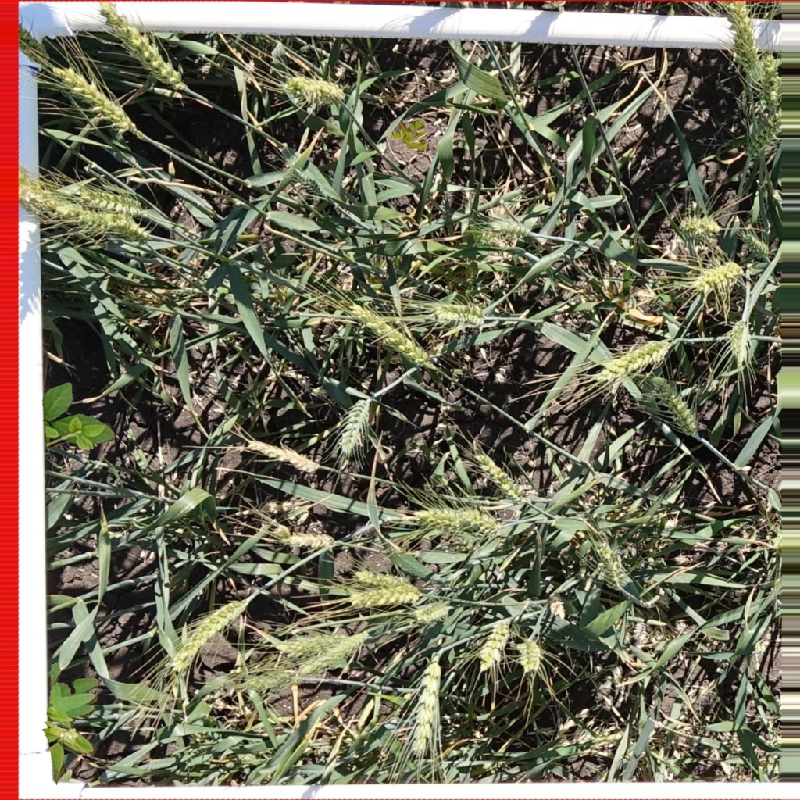spikelet: (108, 15, 189, 92), (165, 597, 248, 672), (49, 61, 136, 132), (349, 300, 433, 368), (406, 650, 447, 758), (594, 336, 671, 384), (291, 629, 368, 675), (410, 502, 504, 538), (471, 449, 533, 503), (243, 437, 320, 479), (650, 375, 701, 436), (61, 181, 149, 215), (724, 2, 762, 68), (335, 394, 374, 456), (475, 613, 514, 673), (283, 72, 348, 106), (745, 52, 783, 109), (743, 109, 784, 160), (592, 538, 632, 589), (690, 258, 745, 294), (429, 298, 489, 328), (349, 582, 421, 607), (278, 629, 346, 655), (270, 526, 336, 551), (676, 212, 721, 245), (725, 317, 757, 363), (242, 667, 297, 691), (352, 567, 411, 589), (516, 633, 546, 675), (410, 596, 452, 624), (737, 227, 772, 260), (486, 214, 533, 237)
weed: (40, 678, 102, 785), (43, 373, 118, 455), (391, 120, 429, 150)
